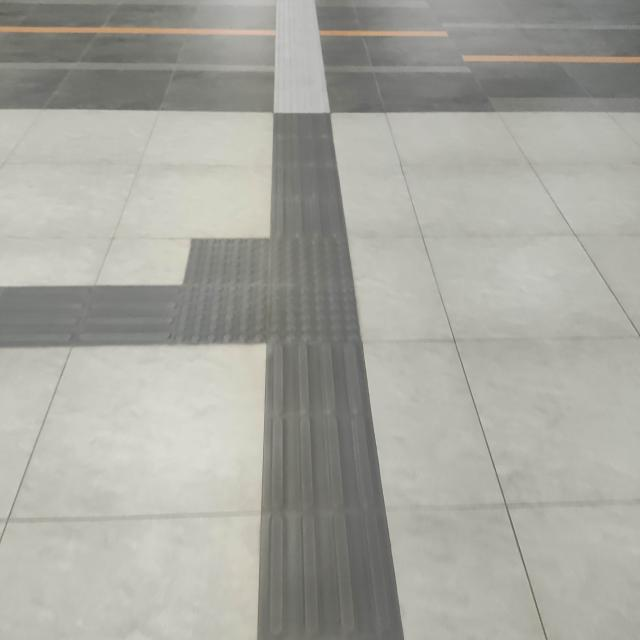lurus: (256, 339, 395, 640), (253, 115, 338, 228)
